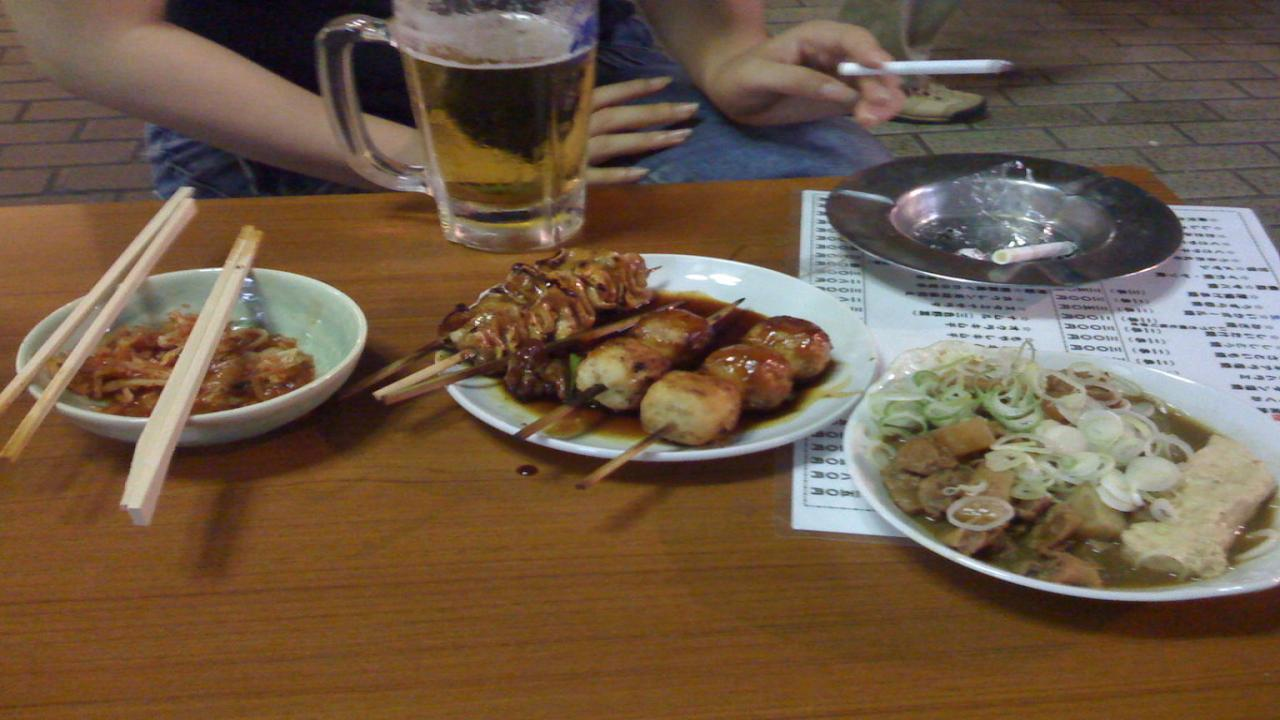chopstick: (0, 186, 201, 452), (122, 223, 263, 524)
